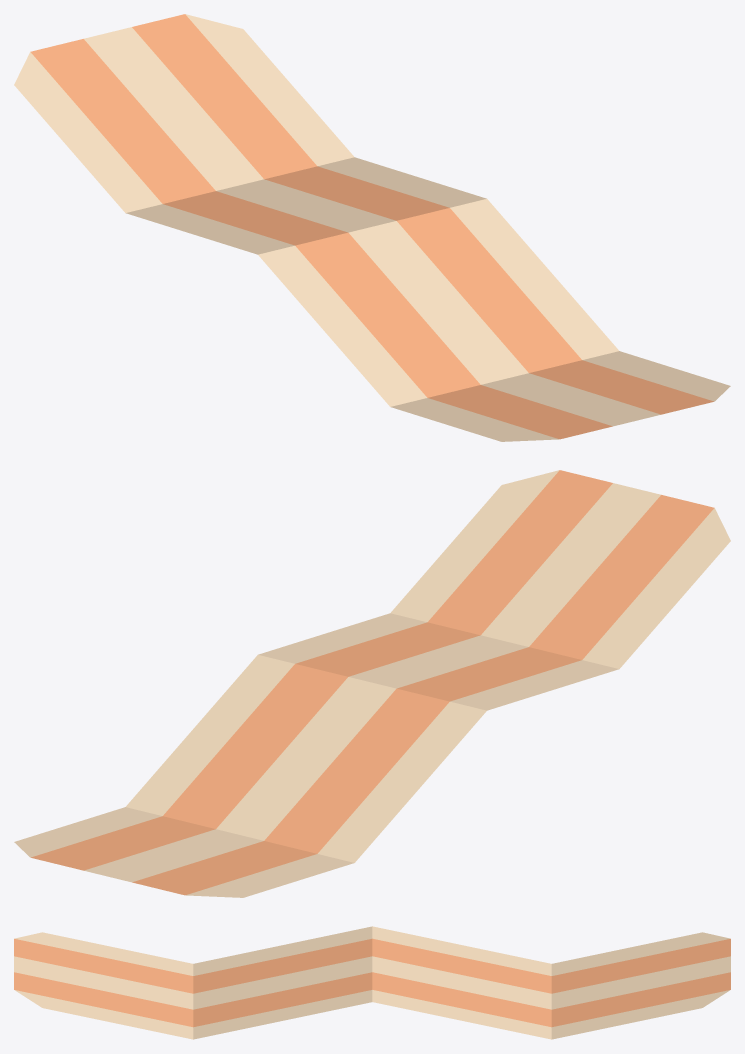
Rendered from bacon_raw.glb.
The picture shows the model from 3 angles, top to bottom: view 1: azimuth 30°, elevation 25°; view 2: azimuth 150°, elevation 25°; view 3: azimuth 270°, elevation 25°; orthographic projection. The views are drawn at different scales.
Visible parts, largest first — view 1: baconRaw; view 2: baconRaw; view 3: baconRaw.
Part boxes in pixels (x1,y1,x2,y2): baconRaw: [14, 14, 730, 441]; baconRaw: [14, 470, 730, 897]; baconRaw: [14, 926, 730, 1039].
Size of the model in its own units: 0.13 by 0.03 by 0.52.
